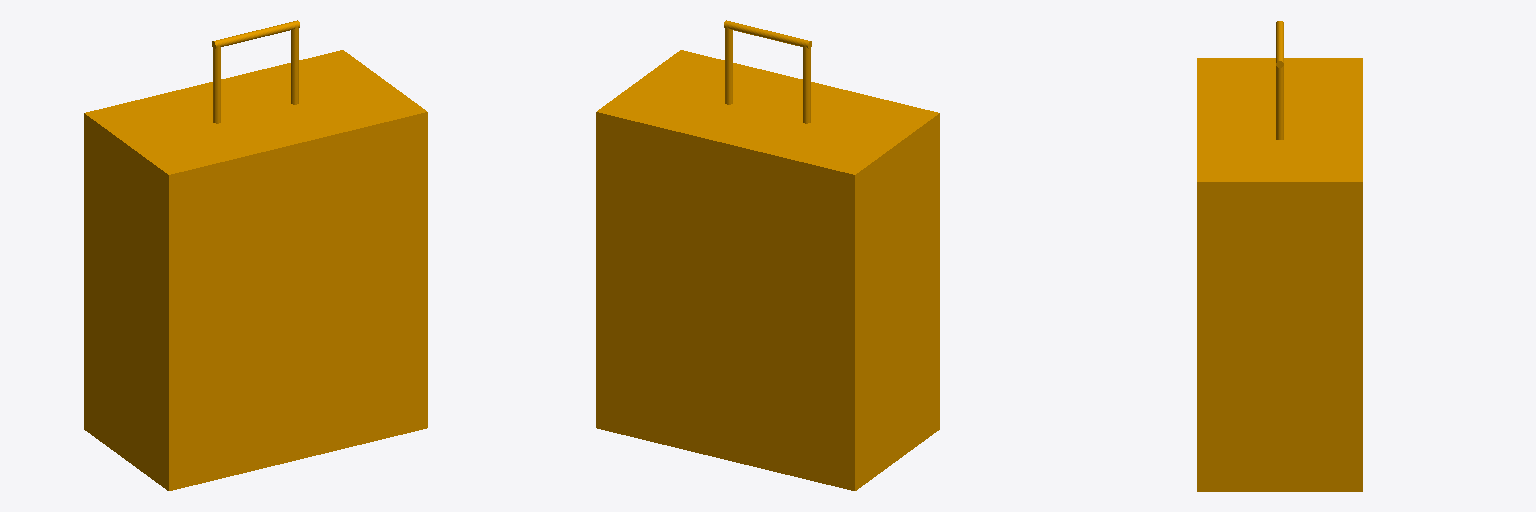
robot.urdf — bag:
<?xml version="1.0"?>
<!-- Shopping-bag model (wf) for the HCR bag-transfer task. Generated from sim/step4_bag/bag_profiles.py -->
<robot name="bag">
  <link name="bag">
    <inertial>
      <origin xyz="0 0 0.175" rpy="0 0 0"/>
      <mass value="1.0"/>
      <inertia ixx="0.0126167" ixy="0" ixz="0" iyy="0.0177083" iyz="0" izz="0.00990833"/>
    </inertial>
    <visual><origin xyz="0 0 0.175"/><geometry><box size="0.3 0.17 0.35"/></geometry></visual>
    <collision><origin xyz="0 0 0.175"/><geometry><box size="0.3 0.17 0.35"/></geometry></collision>
    <collision><origin xyz="-0.045 0 0.39299999999999996" rpy="0 0 0"/><geometry><cylinder radius="0.004" length="0.08599999999999997"/></geometry></collision>
    <visual><origin xyz="-0.045 0 0.39299999999999996" rpy="0 0 0"/><geometry><cylinder radius="0.004" length="0.08599999999999997"/></geometry></visual>
    <collision><origin xyz="0.045 0 0.39299999999999996" rpy="0 0 0"/><geometry><cylinder radius="0.004" length="0.08599999999999997"/></geometry></collision>
    <visual><origin xyz="0.045 0 0.39299999999999996" rpy="0 0 0"/><geometry><cylinder radius="0.004" length="0.08599999999999997"/></geometry></visual>
    <collision><origin xyz="0 0 0.43599999999999994" rpy="0 1.5707963 0"/><geometry><cylinder radius="0.004" length="0.098"/></geometry></collision>
    <visual><origin xyz="0 0 0.43599999999999994" rpy="0 1.5707963 0"/><geometry><cylinder radius="0.004" length="0.098"/></geometry></visual>
  </link>
</robot>

--- Facts derived from the render (not from the file) ---
3 views of the same robot in one strip: view 1: azimuth 30°, elevation 25°; view 2: azimuth 150°, elevation 25°; view 3: azimuth 270°, elevation 25° (orthographic).
Robot: bag — 1 links, 0 joints (none); root link bag; default pose: all joints at 0.
Visible links, largest first — view 1: bag; view 2: bag; view 3: bag.
Boxes of the visible links, x1,y1,x2,y2 form: bag: (84, 20, 427, 490); bag: (596, 20, 939, 490); bag: (1197, 21, 1362, 491).
Bounding box of the posed robot: 0.3 × 0.17 × 0.44 m (x, y, z).
Geometry: primitives only (box / cylinder / sphere), no mesh files.
